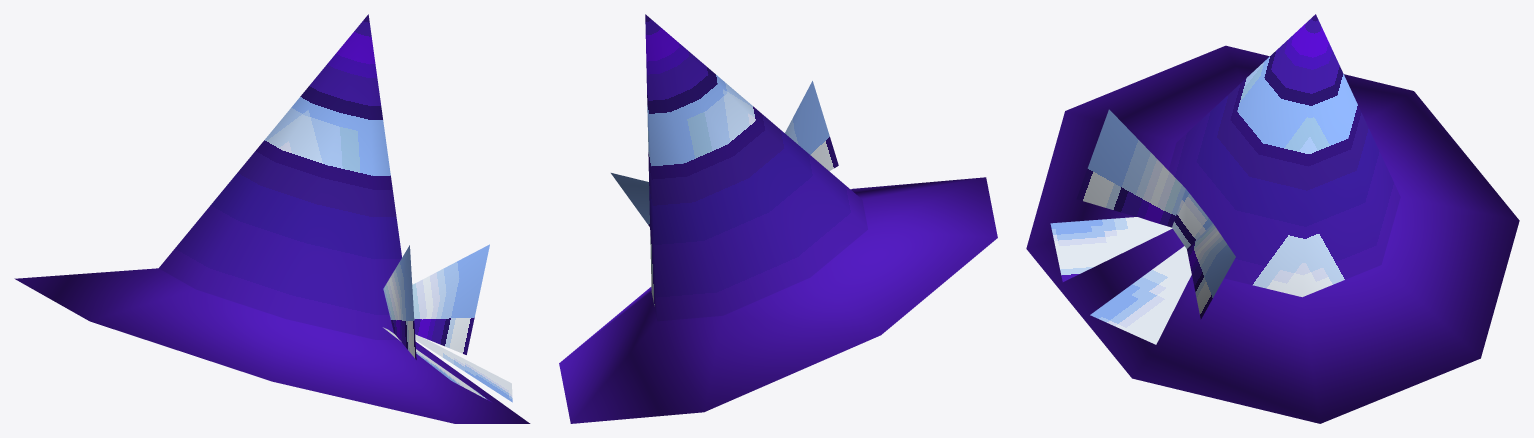
3 renders of one model, left to right at view 1: azimuth 30°, elevation 25°; view 2: azimuth 150°, elevation 25°; view 3: azimuth 270°, elevation 25°, orthographic. The views are drawn at different scales.
Visible parts, largest first — view 1: code_head81; view 2: code_head81; view 3: code_head81.
Boxes of the visible parts, x1,y1,x2,y2 form: code_head81: (14,14,530,423); code_head81: (559,14,997,423); code_head81: (1026,14,1519,423).
Bounding box in the file's own units: 0.6641 × 0.5967 × 0.7231.
1 material, 1 textured.
